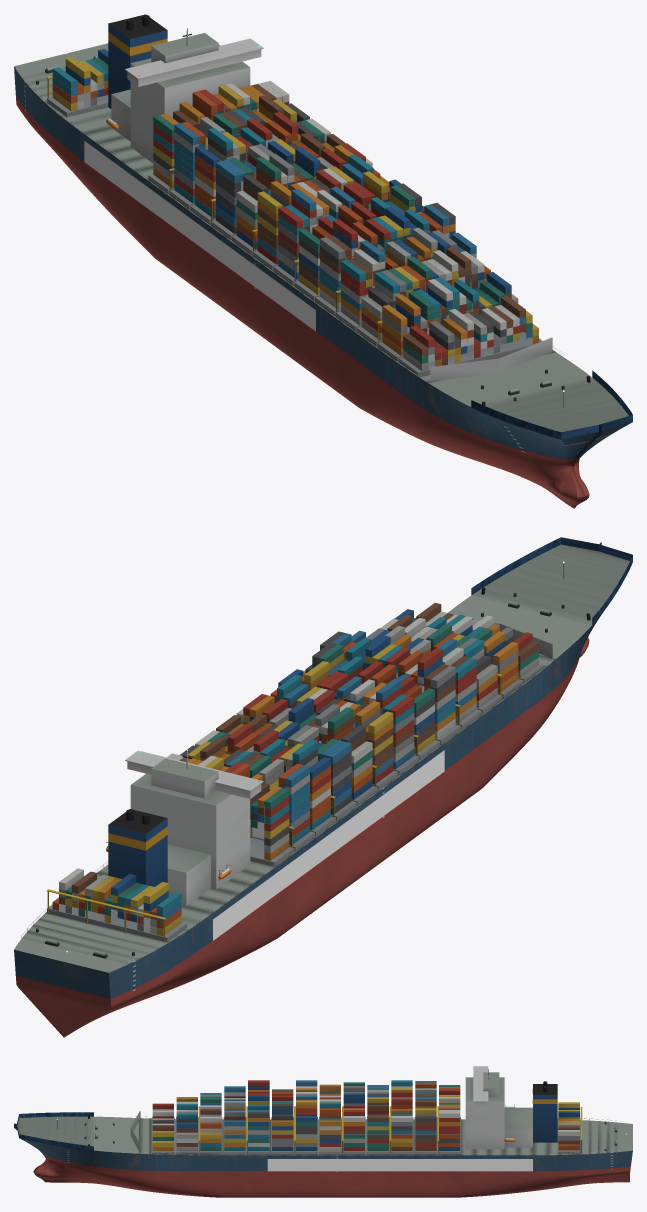
File: container.glb
3 renders of one model, top to bottom at view 1: azimuth 30°, elevation 25°; view 2: azimuth 150°, elevation 25°; view 3: azimuth 270°, elevation 25°, orthographic. The views are drawn at different scales.
Parts seen in each view (by area): view 1: trim, rumpf, name-1, rund; view 2: trim, rumpf, name-1, rund; view 3: trim, rumpf, name1, rund.
Boxes of the visible parts, x1,y1,x2,y2 form: trim: [14, 14, 632, 439]; rumpf: [14, 67, 631, 508]; name-1: [84, 141, 315, 331]; rund: [21, 15, 590, 407]; trim: [14, 537, 632, 972]; rumpf: [14, 613, 602, 1037]; name-1: [213, 750, 444, 940]; rund: [21, 563, 590, 958]; trim: [14, 1066, 632, 1155]; rumpf: [14, 1128, 632, 1197]; name1: [267, 1159, 532, 1171]; rund: [57, 1069, 617, 1154].
Size of the model in its own units: 48.13 by 70.73 by 350.
8 materials, 1 textured.
